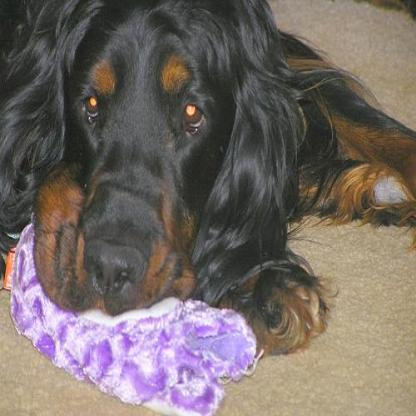Gordon_setter: (0, 0, 414, 356)
